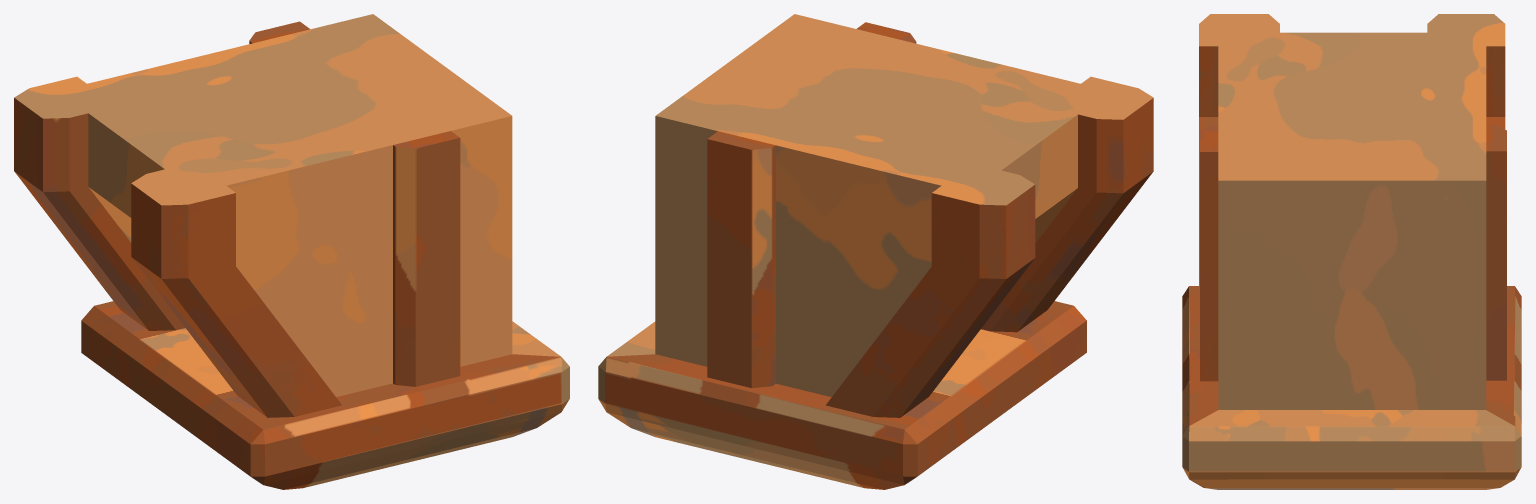
The model's file is city wall arch.fbx.
3 renders of one model, left to right at view 1: azimuth 30°, elevation 25°; view 2: azimuth 150°, elevation 25°; view 3: azimuth 270°, elevation 25°, orthographic. The views are drawn at different scales.
Parts seen in each view (by area): view 1: city wall arch_uv; view 2: city wall arch_uv; view 3: city wall arch_uv.
Boxes of the visible parts, x1=… form: city wall arch_uv: x1=14, y1=14, x2=569, y2=489; city wall arch_uv: x1=598, y1=14, x2=1153, y2=489; city wall arch_uv: x1=1182, y1=14, x2=1521, y2=489.
Bounding box in the file's own units: 312 × 241 × 240.
